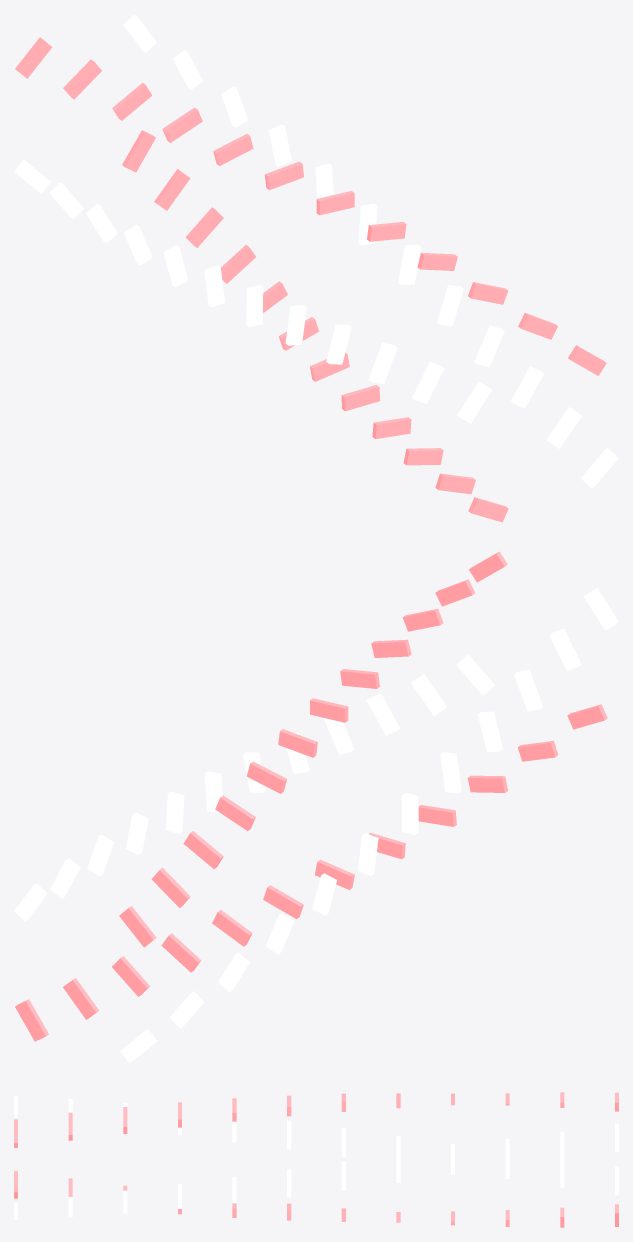
Rendered from Side boxes.fbx.
3 views of the same model, one above another, from view 1: azimuth 30°, elevation 25°; view 2: azimuth 150°, elevation 25°; view 3: azimuth 270°, elevation 25° (orthographic). The views are drawn at different scales.
Parts seen in each view (by area): view 1: Cube.007; view 2: Cube.007; view 3: Cube.007.
Part boxes in pixels (box(x1,y1,x2,y2)): Cube.007: box(14, 14, 618, 522); Cube.007: box(14, 551, 618, 1062); Cube.007: box(14, 1092, 618, 1227).
Size of the model in its own units: 1116 by 1116 by 5002.
